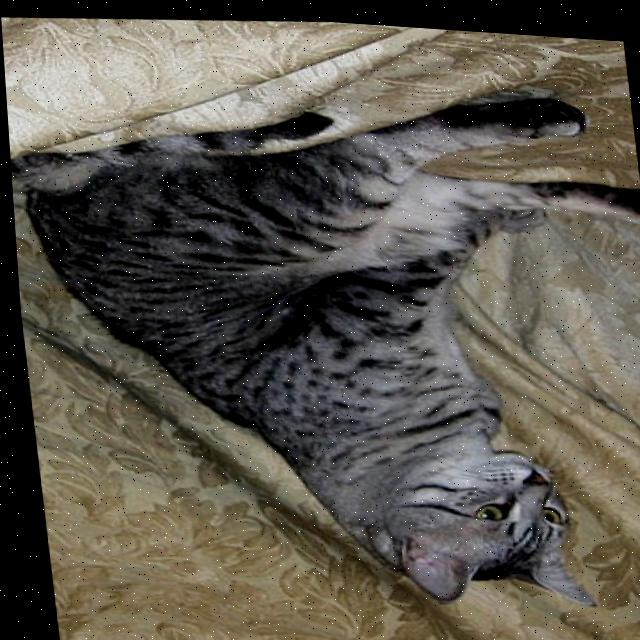Egyptian Mau: (3, 53, 640, 639)
